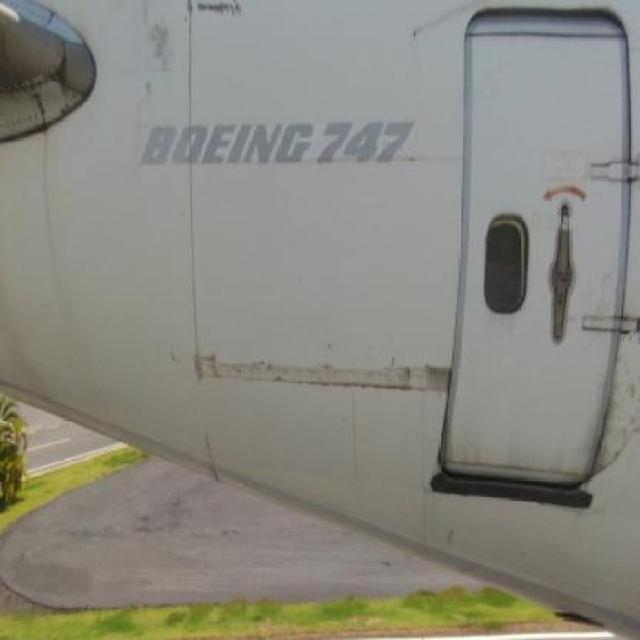Rust: (45, 48, 97, 124)
Scartch: (184, 336, 459, 424), (586, 245, 640, 512), (127, 0, 182, 111), (188, 1, 268, 42)
